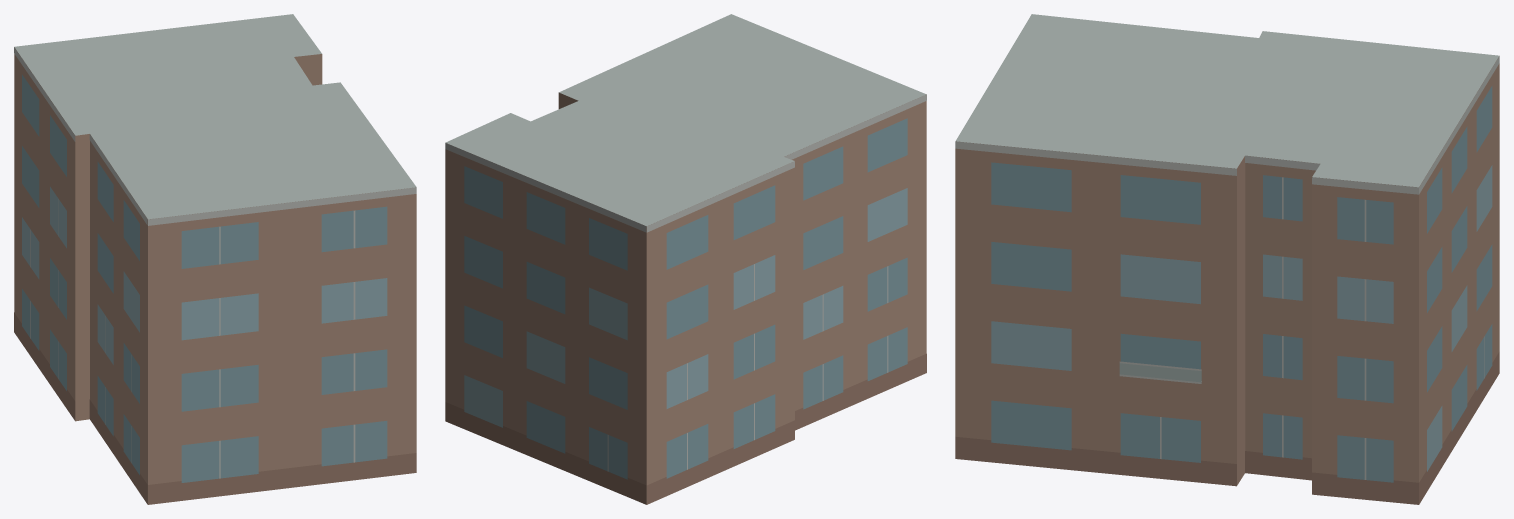
The model's file is survey-upis-32496829.glb.
3 views of the same model, side by side, from view 1: azimuth 30°, elevation 25°; view 2: azimuth 150°, elevation 25°; view 3: azimuth 270°, elevation 25° (orthographic). The views are drawn at different scales.
Parts seen in each view (by area): view 1: survey-upis-32496829.tmp; view 2: survey-upis-32496829.tmp; view 3: survey-upis-32496829.tmp.
Part boxes in pixels (<box>): survey-upis-32496829.tmp: <box>14,14,416,504</box>; survey-upis-32496829.tmp: <box>445,14,926,504</box>; survey-upis-32496829.tmp: <box>955,14,1499,504</box>.
Size of the model in its own units: 12.42 by 10.6 by 16.47.
